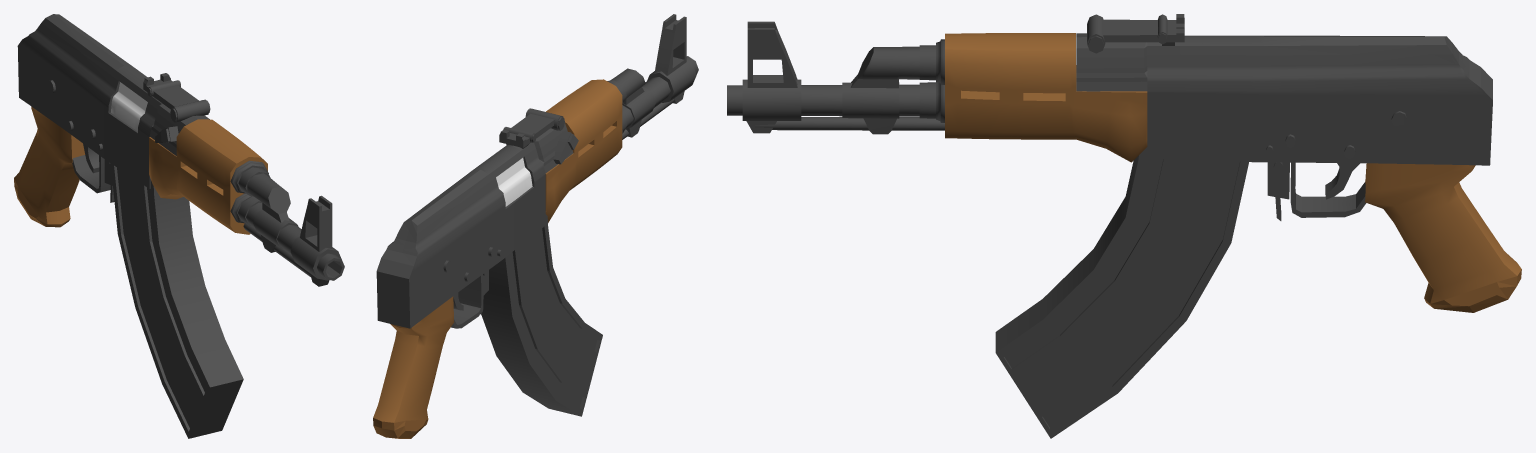
3 views of the same model, side by side, from view 1: azimuth 30°, elevation 25°; view 2: azimuth 150°, elevation 25°; view 3: azimuth 270°, elevation 25° (orthographic). The views are drawn at different scales.
Visible parts, largest first — view 1: Plane32, Plane36; view 2: Plane32, Plane36; view 3: Plane32, Plane36.
Part boxes in pixels (bbox=[...]): Plane32: bbox=[14, 14, 344, 286]; Plane36: bbox=[110, 163, 243, 438]; Plane32: bbox=[373, 14, 698, 438]; Plane36: bbox=[481, 214, 602, 416]; Plane32: bbox=[727, 14, 1521, 312]; Plane36: bbox=[995, 147, 1248, 438].
Bounding box in the file's own units: 2.66 × 15.46 × 27.22.
